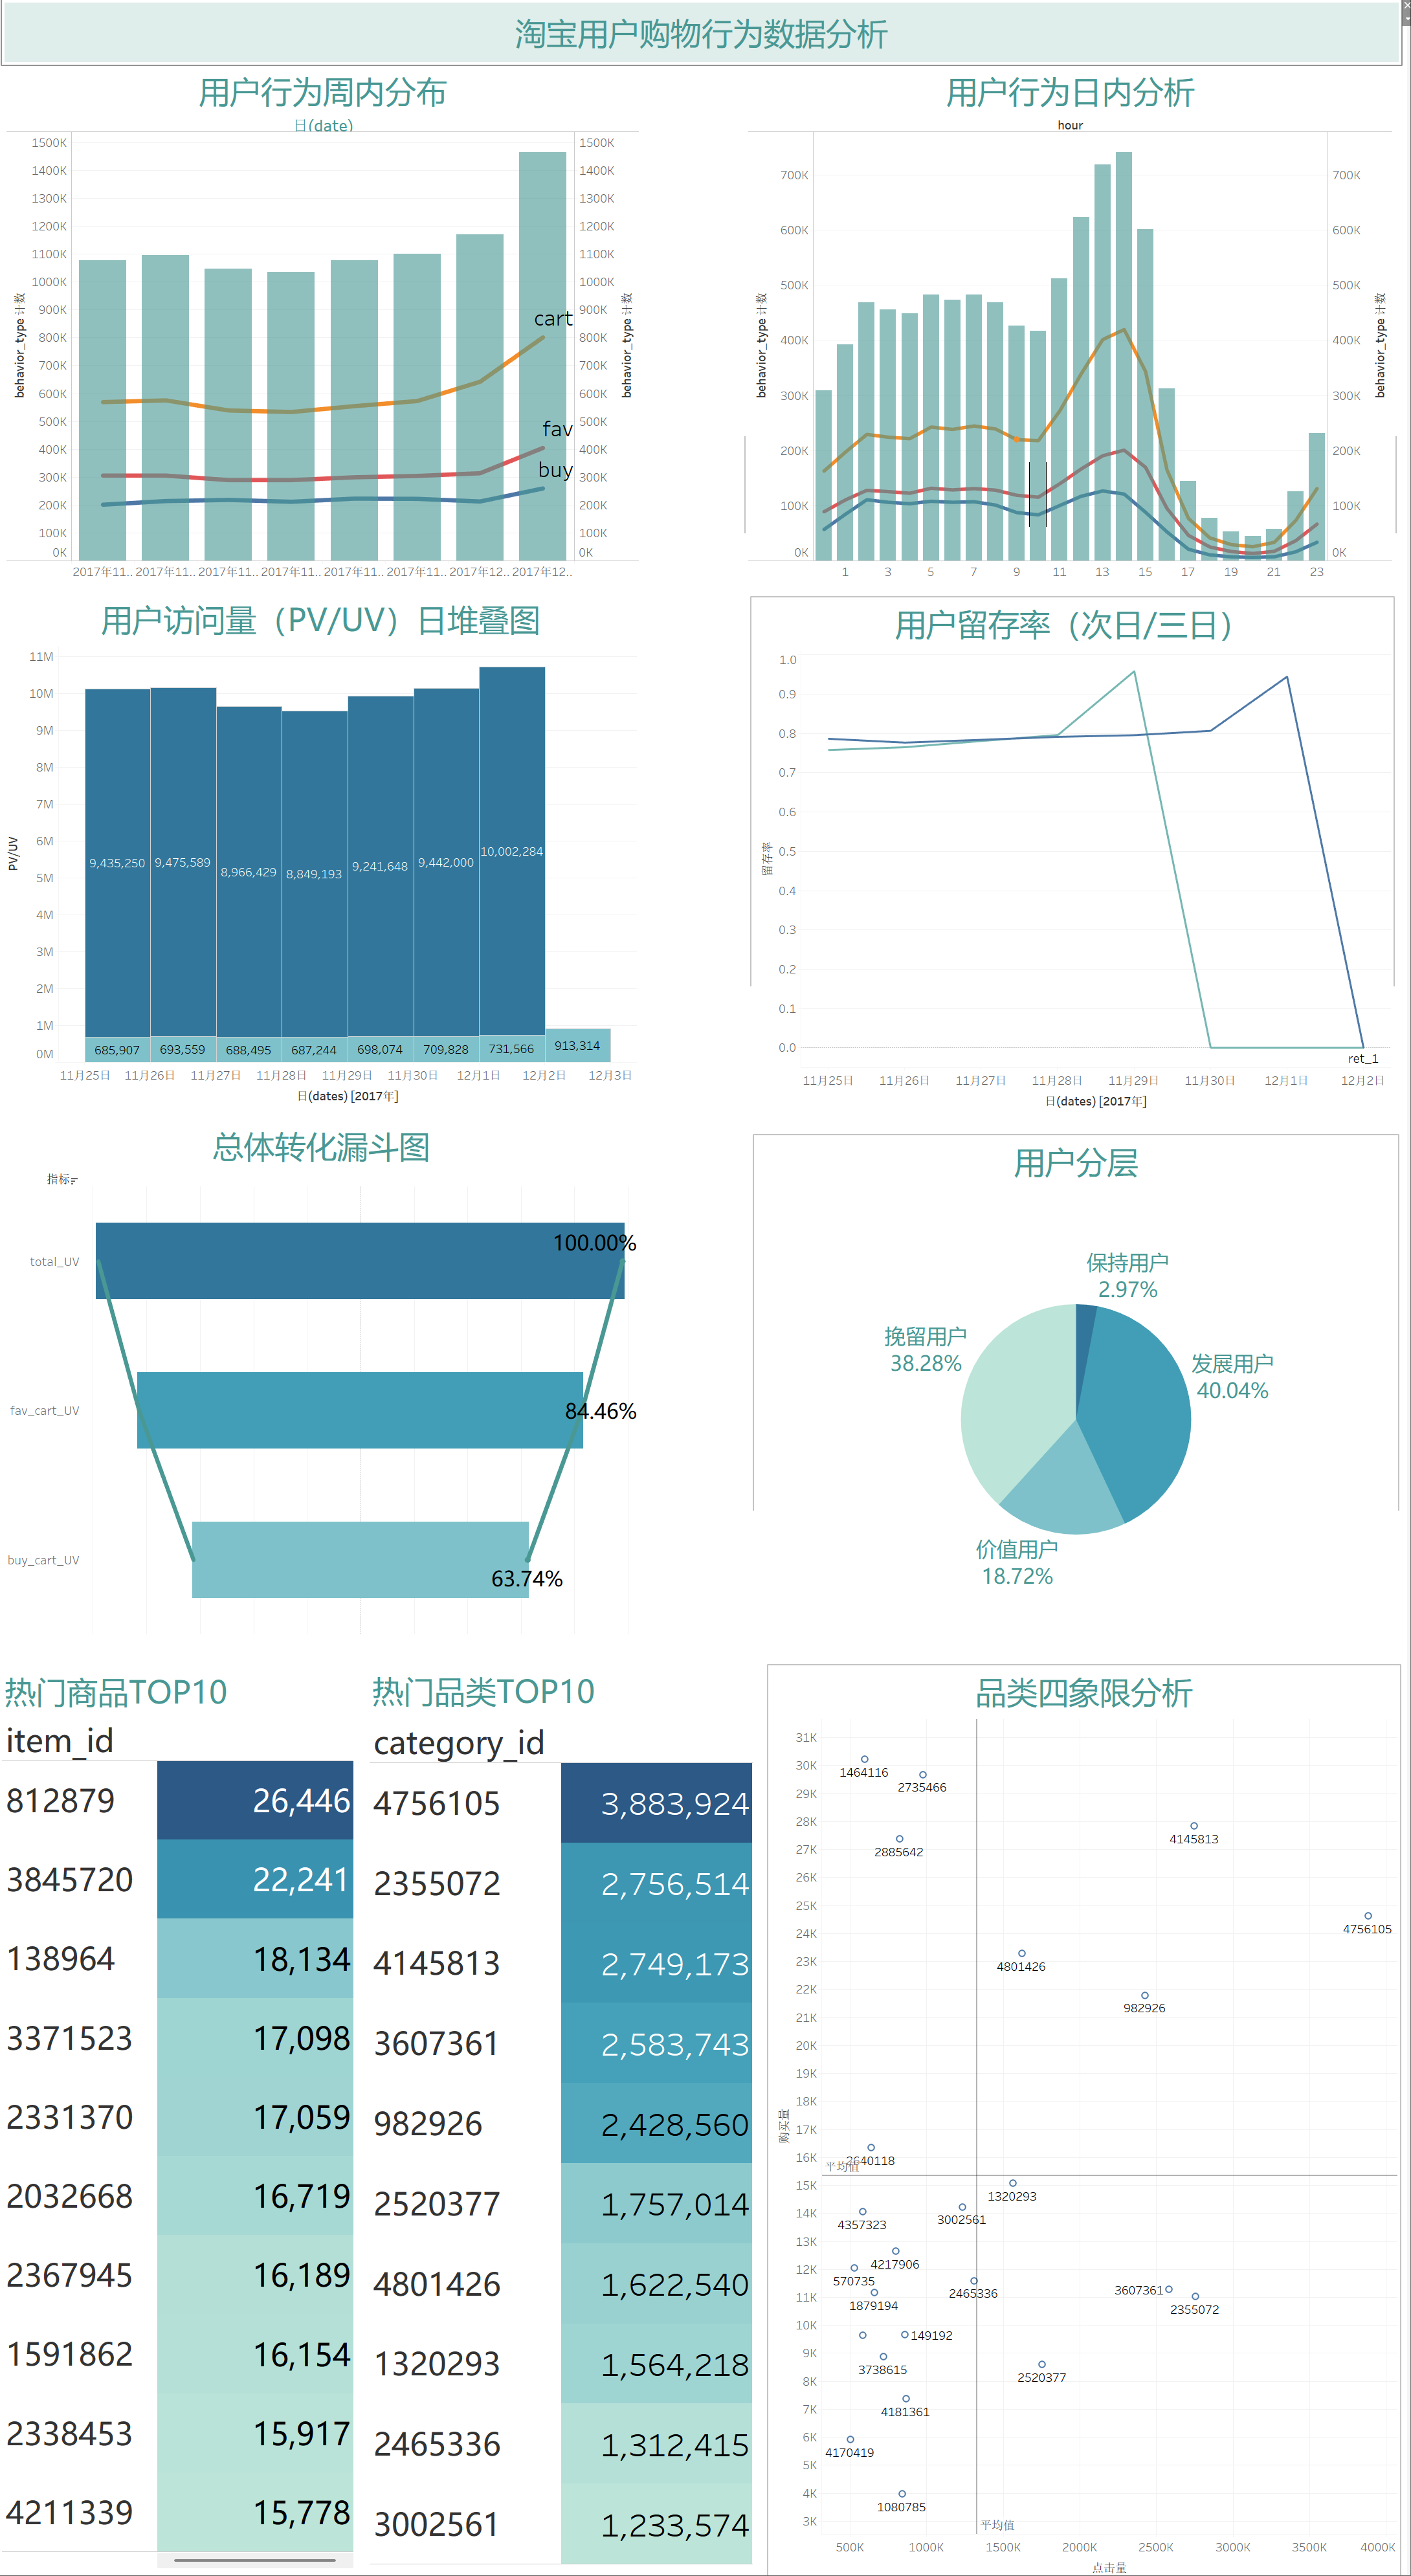

What the dashboard file says about the page in this screenshot:
{"tool":"tableau","page":{"name":"淘宝用户购物行为数据分析","canvas":[2200,4000],"ordinal":0},"visuals":[{"type":"title","box":[29,22,2162,100]},{"type":"worksheet","title":"用户行为周内分布","mark":"Bar","rows":["behavior_type","behavior_type"],"cols":["date"],"box":[32,122,986,800]},{"type":"worksheet","title":"用户行为日内分析","mark":"Automatic","rows":["behavior_type","behavior_type"],"cols":["hour"],"box":[1178,122,1004,800]},{"type":"worksheet","title":"用户访问量（PV/UV）日堆叠图","mark":"Bar","rows":["PV/UV"],"cols":["dates"],"box":[29,938,985,800]},{"type":"worksheet","title":"用户留存率（次日/三日）","mark":"Automatic","rows":["留存率"],"cols":["dates"],"box":[1187,945,992,801]},{"type":"worksheet","title":"总体转漏斗图","mark":"Automatic","rows":["指标"],"cols":["数量","数量"],"box":[30,1752,985,799]},{"type":"worksheet","title":"用户分层","mark":"Pie","box":[1191,1776,995,799]},{"type":"worksheet","title":"热门品类TOP10","mark":"Square","rows":["category_id"],"box":[593,2594,608,1394]},{"type":"worksheet","title":"热门商品TOP10","mark":"Square","rows":["item_id"],"box":[25,2595,551,1399]},{"type":"worksheet","title":"品类四象限分析","mark":"Automatic","rows":["category_buy"],"cols":["category_pv"],"box":[1213,2595,976,1417]}]}

Visuals, with their boxes in screenshot pixels (x1, y1, x2, y2), scaled from the page's 2200x4000 canvas onto the 1411x2576 screenshot:
title: box=[19, 14, 1405, 78]
"用户行为周内分布" worksheet (Bar marks): box=[21, 78, 653, 594]
"用户行为日内分析" worksheet: box=[755, 78, 1399, 594]
"用户访问量（PV/UV）日堆叠图" worksheet (Bar marks): box=[19, 604, 650, 1119]
"用户留存率（次日/三日）" worksheet: box=[761, 608, 1397, 1124]
"总体转漏斗图" worksheet: box=[19, 1128, 651, 1643]
"用户分层" worksheet (Pie marks): box=[764, 1144, 1402, 1658]
"热门品类TOP10" worksheet (Square marks): box=[381, 1671, 770, 2568]
"热门商品TOP10" worksheet (Square marks): box=[16, 1671, 370, 2572]
"品类四象限分析" worksheet: box=[778, 1671, 1404, 2575]
